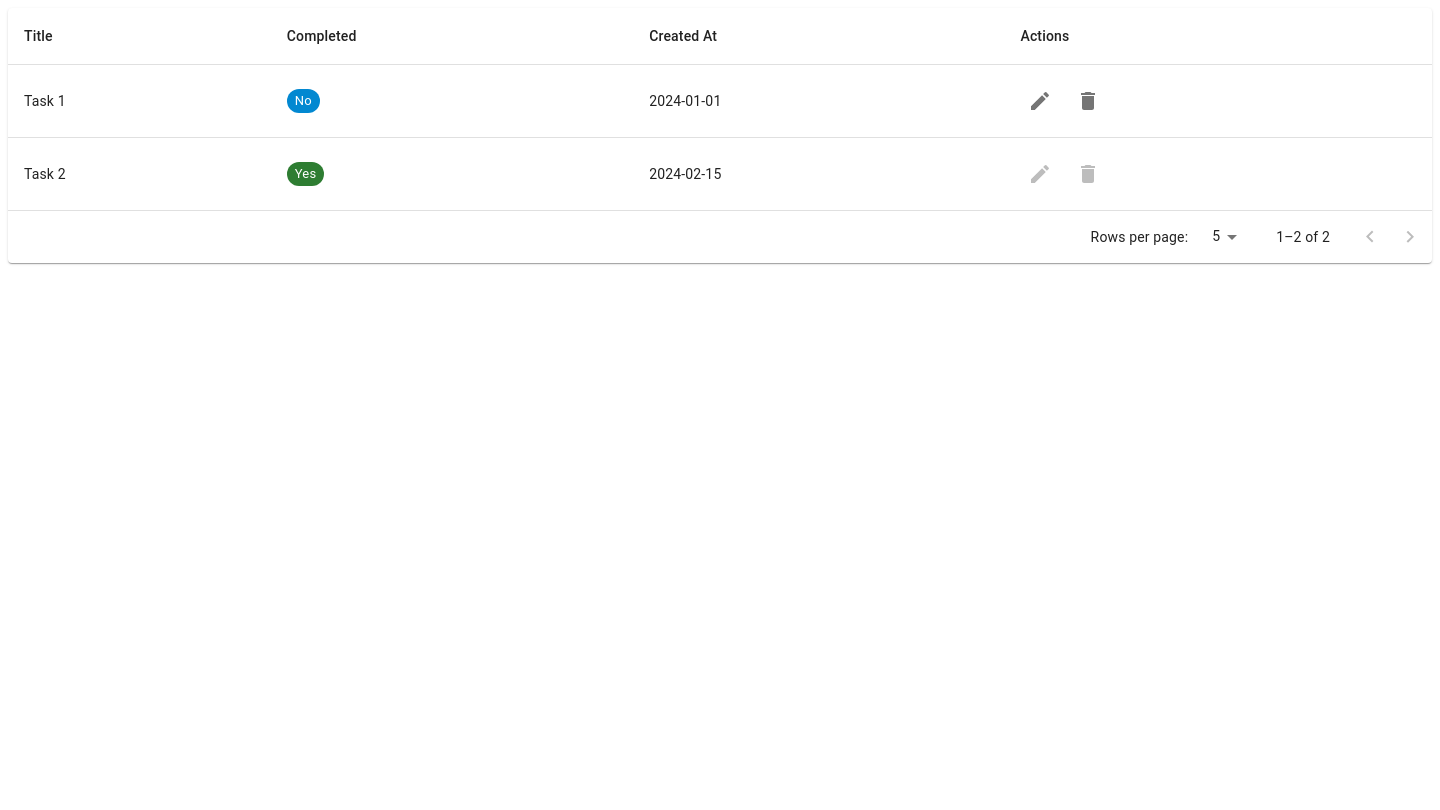
Test: TasksList › shows confirm dialog when delete button is clicked
Click the button named "Delete task Task 1". click: (1088, 101)
box: [1068, 81, 1108, 121]
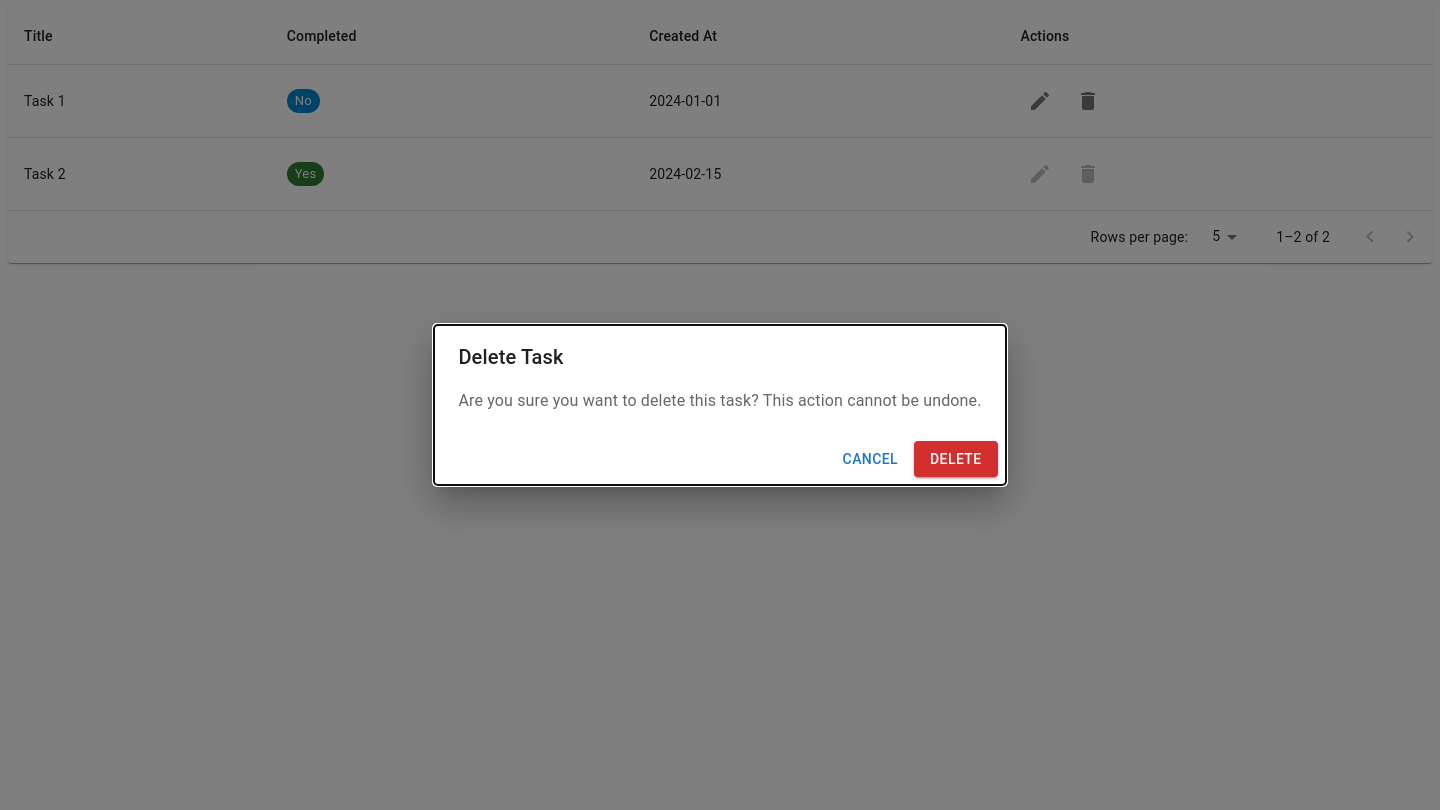
Expected: the text "Are you sure you want to delete this task? This action cannot be undone." is shown, [458, 389, 982, 413]
